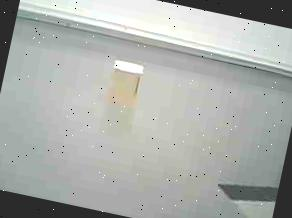Bottle B: (96, 53, 156, 114)
